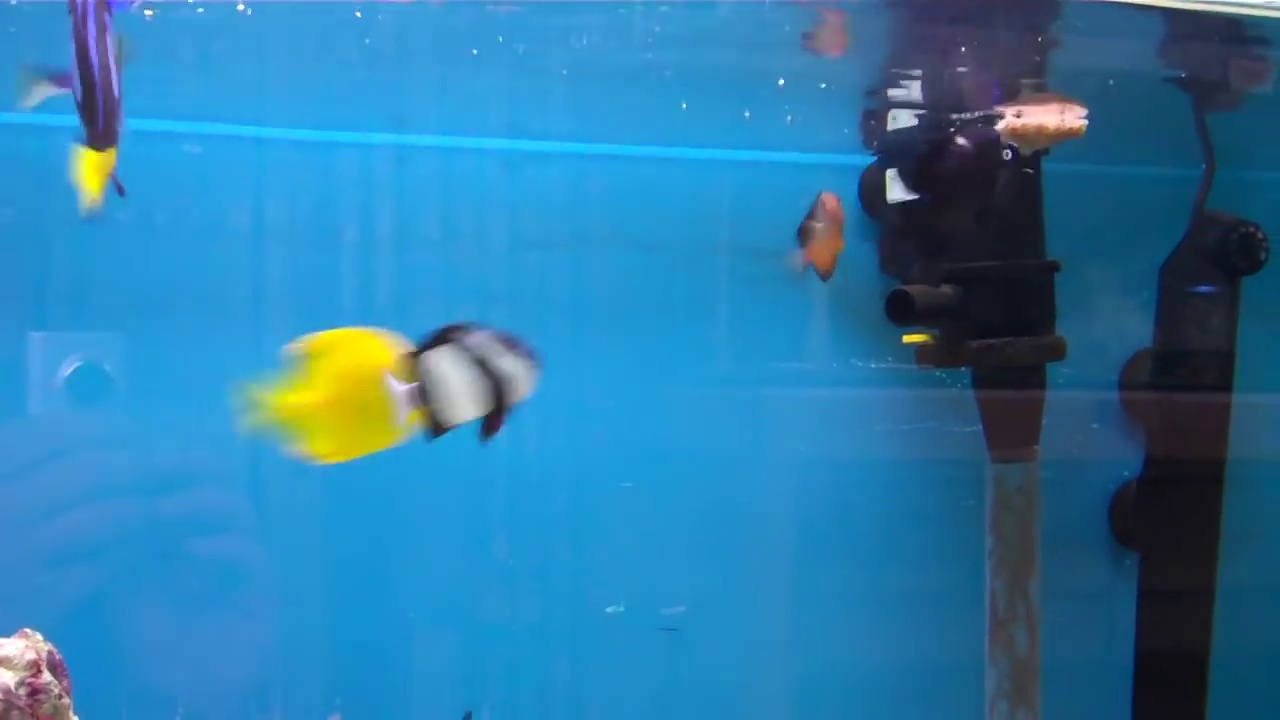blue tang surgeonfish: (35, 0, 156, 228)
saddle butterfly fish: (231, 320, 435, 464)
